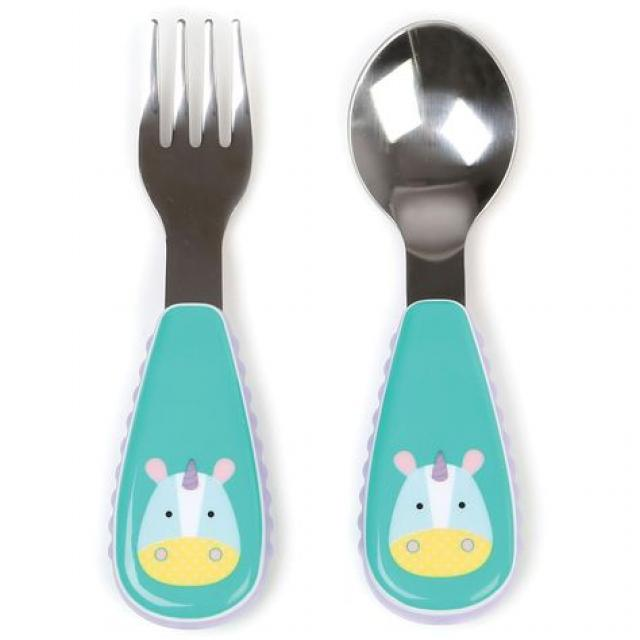fork: (104, 8, 293, 631)
spoon: (335, 13, 537, 634)
